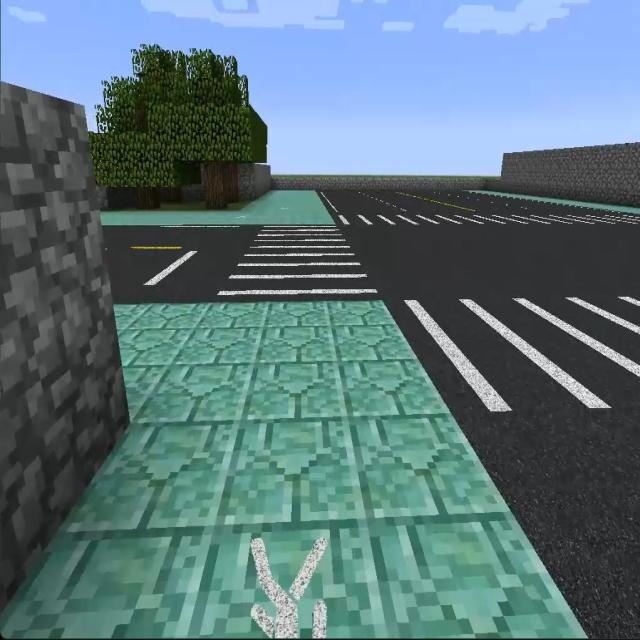crosswalk: (396, 276, 639, 427), (210, 222, 384, 297), (333, 211, 639, 236)
road: (492, 413, 635, 632), (354, 226, 635, 296), (102, 224, 259, 301), (324, 191, 539, 211)
sidewalk: (0, 298, 585, 639), (101, 190, 333, 228), (467, 190, 639, 214)
